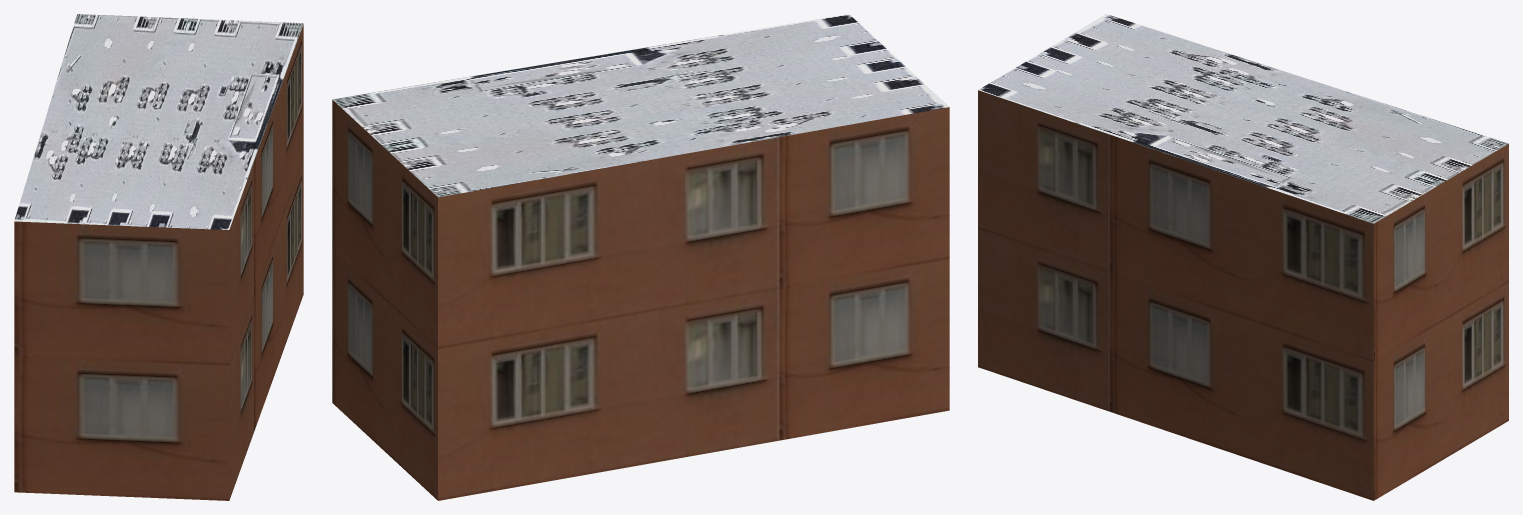
The model's file is ResTex__4721.fbx.
3 renders of one model, left to right at view 1: azimuth 30°, elevation 25°; view 2: azimuth 150°, elevation 25°; view 3: azimuth 270°, elevation 25°, orthographic. The views are drawn at different scales.
Visible parts, largest first — view 1: CityEngineMaterial_20_m, CityEngineMaterial_4_m; view 2: CityEngineMaterial_20_m, CityEngineMaterial_4_m; view 3: CityEngineMaterial_20_m, CityEngineMaterial_4_m.
Boxes of the visible parts, <box> form: CityEngineMaterial_20_m: <box>14,24,303,500</box>; CityEngineMaterial_4_m: <box>14,14,303,229</box>; CityEngineMaterial_20_m: <box>332,100,949,500</box>; CityEngineMaterial_4_m: <box>332,14,949,197</box>; CityEngineMaterial_20_m: <box>978,90,1508,500</box>; CityEngineMaterial_4_m: <box>978,14,1508,223</box>.
Size of the model in its own units: 9.75 by 6 by 10.42.
2 materials, 2 textured.
